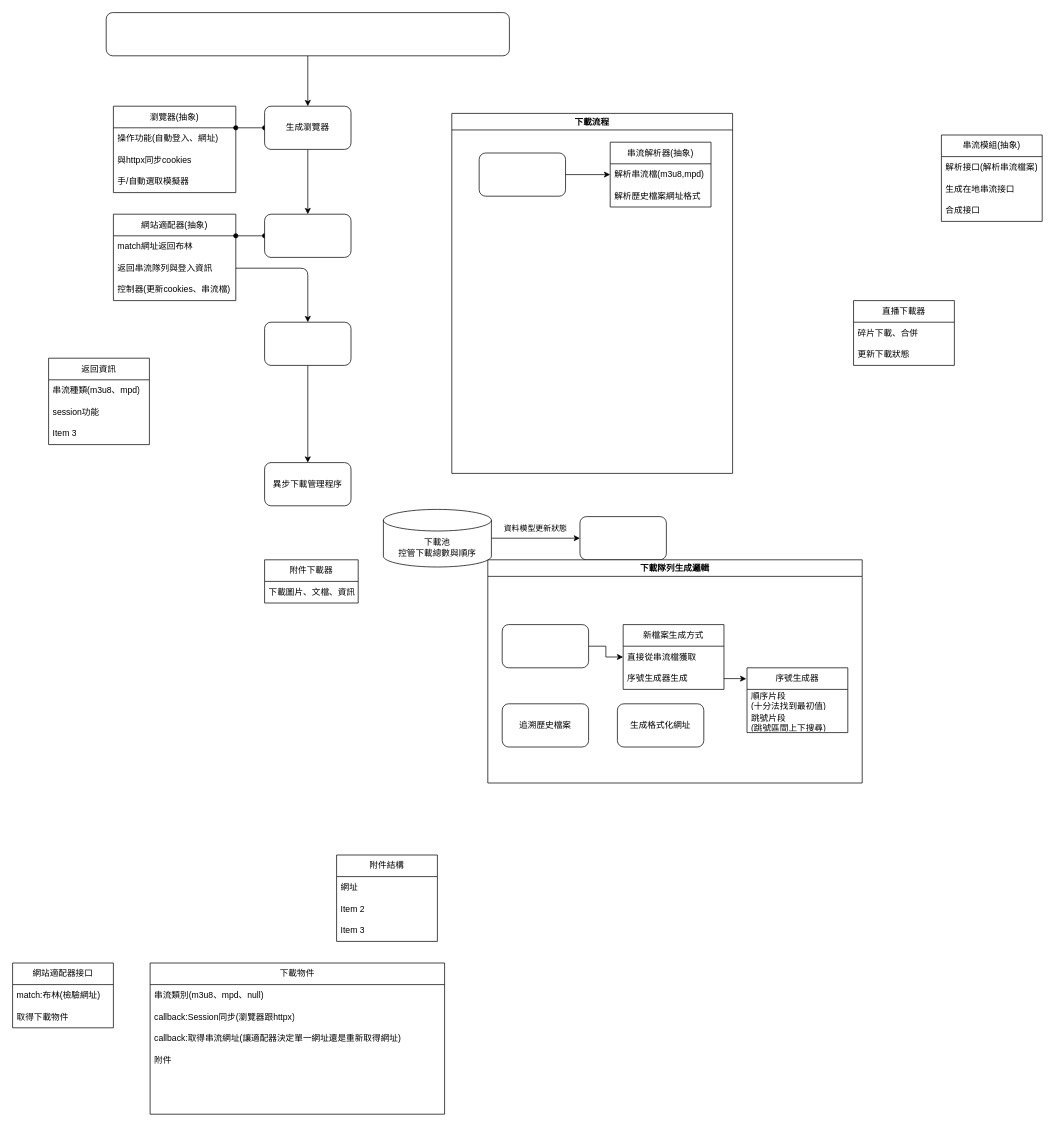
This 1055x1127 diagram has some shape labels left out. The shapes that lost their labels are listed below. From the top down, each one's centre as x and y in pixels, then its label:
the point at 307,34: 主系統
the point at 522,174: 解析串流檔 m3u8/mpd
the point at 307,235: 取得適配器 自動適配網址
the point at 307,343: 取得所有視角與資訊
the point at 622,538: rich進度管理器
the point at 545,646: 不追溯歷史檔案
